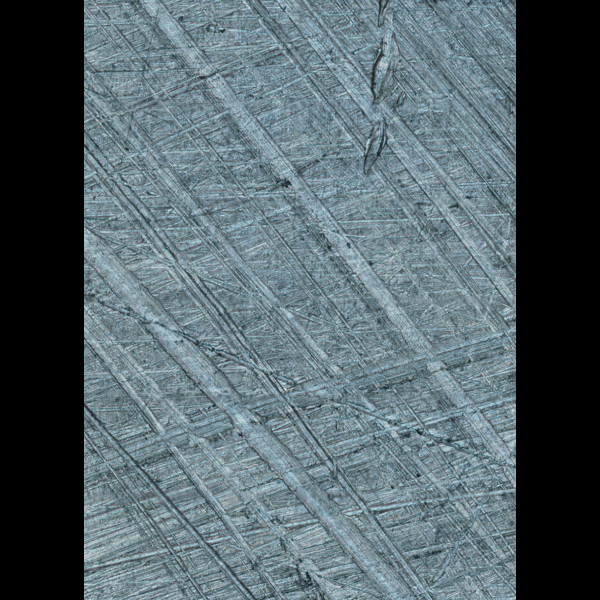d: (352, 0, 413, 181)
